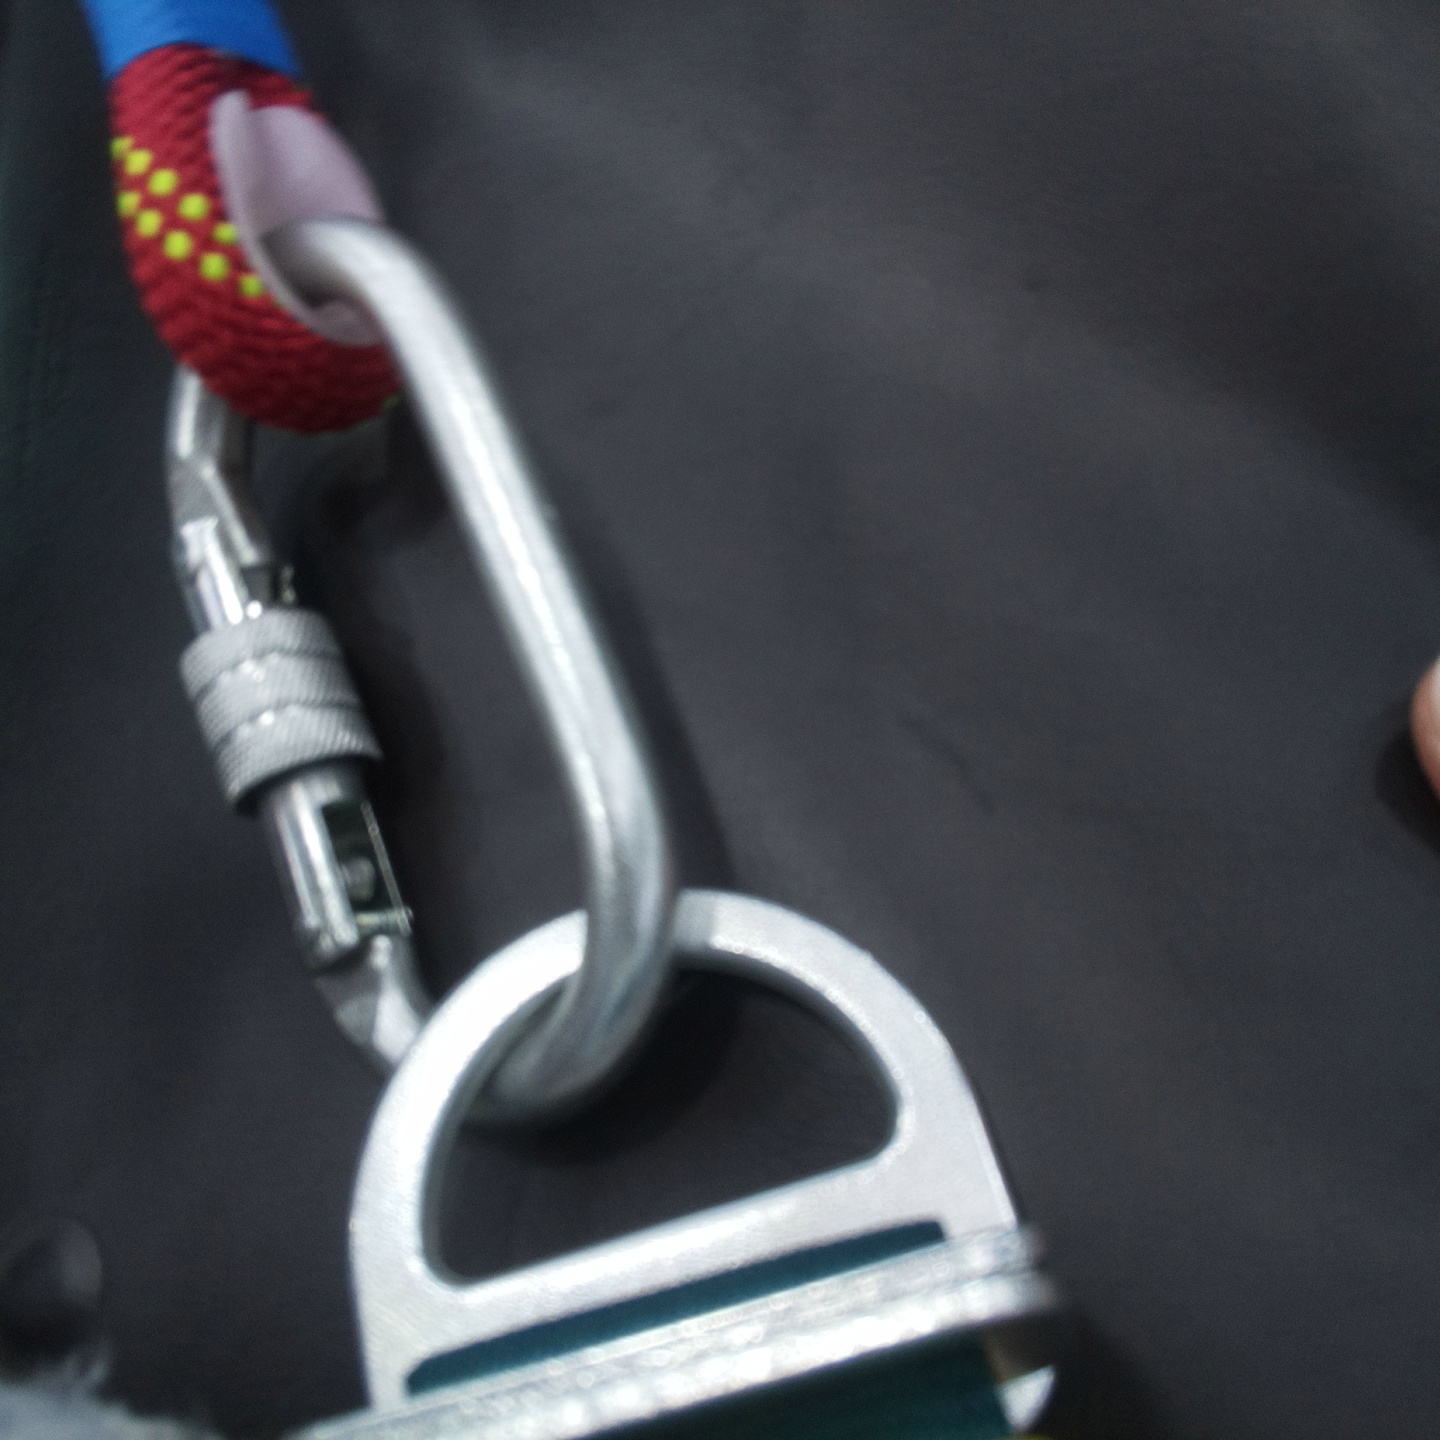SUCCESS: (287, 599, 1035, 1393)
